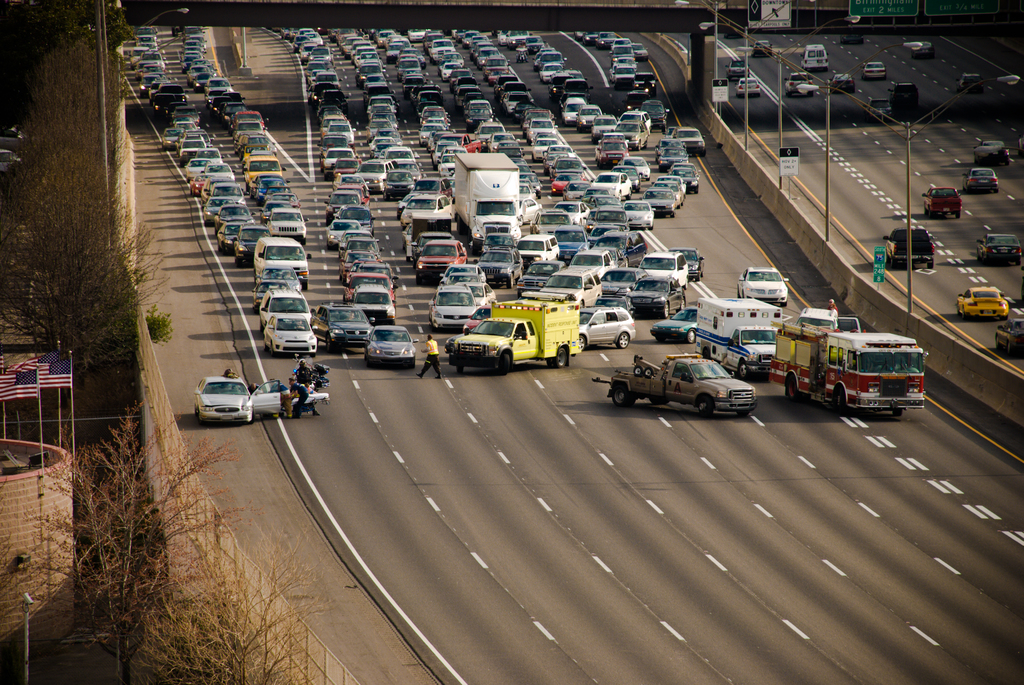Car: (123, 21, 709, 372), (192, 377, 280, 422), (740, 270, 790, 309), (952, 291, 1010, 317), (892, 230, 929, 270), (921, 189, 963, 218), (994, 322, 1023, 359), (965, 173, 997, 194), (979, 147, 1010, 168), (863, 63, 887, 81), (740, 81, 761, 94)
